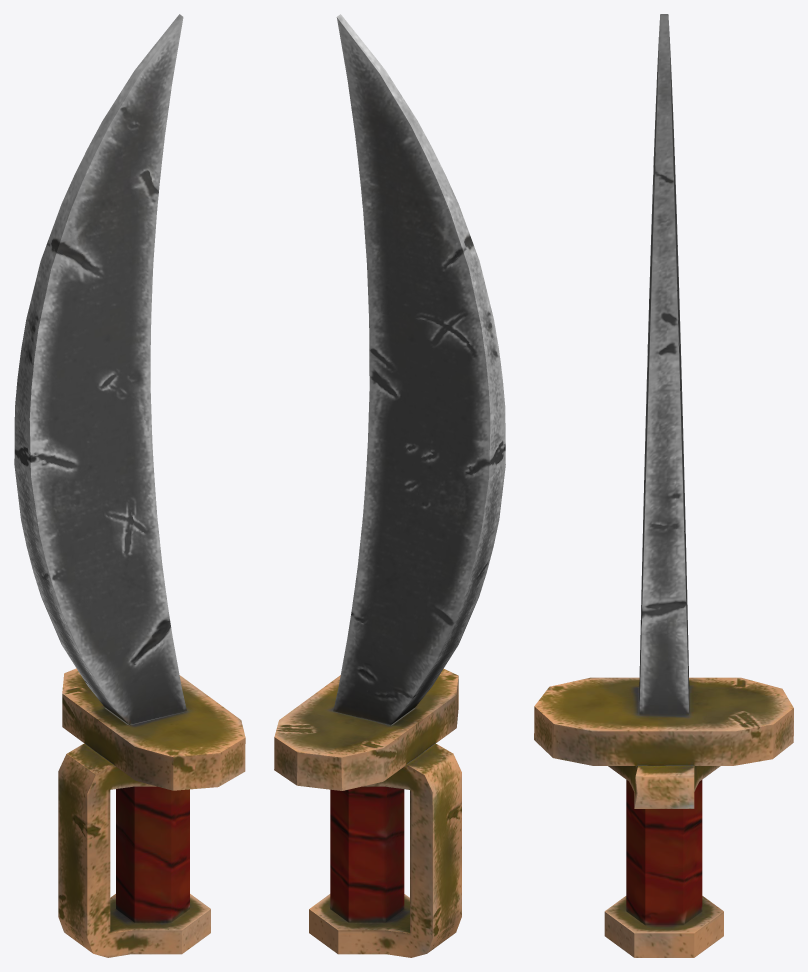
The model's file is Skeleton__Sword.fbx.
The picture shows the model from 3 angles, left to right: view 1: azimuth 30°, elevation 25°; view 2: azimuth 150°, elevation 25°; view 3: azimuth 270°, elevation 25°; orthographic projection. The views are drawn at different scales.
Parts seen in each view (by area): view 1: sabre001; view 2: sabre001; view 3: sabre001.
Part boxes in pixels (left/top/right/bottom): sabre001: left=14, top=14, right=245, bottom=957; sabre001: left=274, top=14, right=505, bottom=957; sabre001: left=534, top=14, right=793, bottom=957.
Size of the model in its own units: 44.05 by 190 by 47.77.
Materials: 1 (1 with a texture image).
